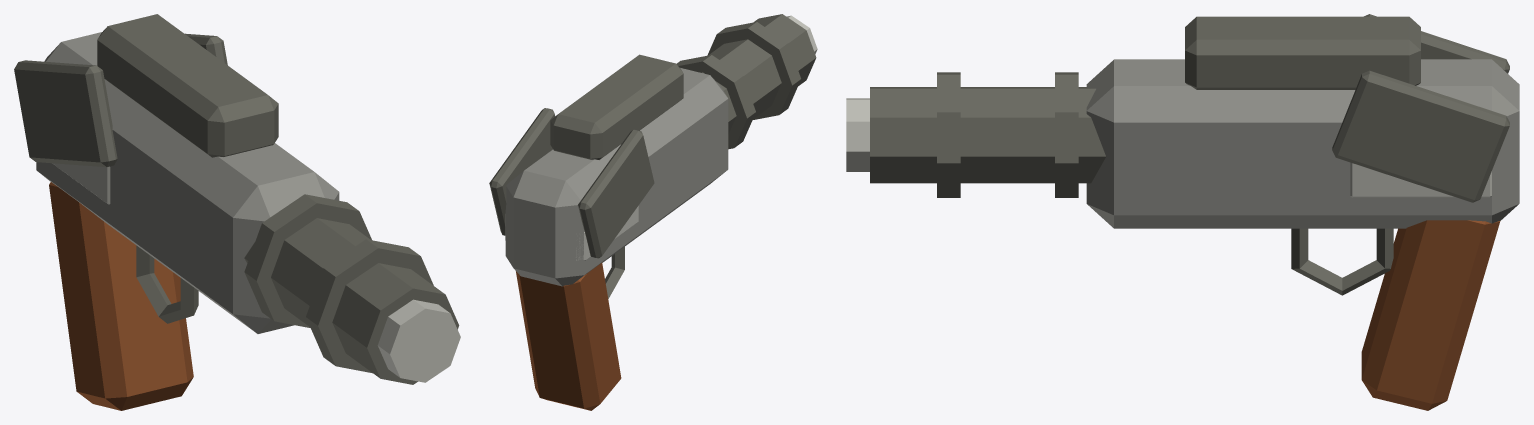
File: StoneLaserBlaster.fbx
3 views of the same model, side by side, from view 1: azimuth 30°, elevation 25°; view 2: azimuth 150°, elevation 25°; view 3: azimuth 270°, elevation 25° (orthographic). The views are drawn at different scales.
Visible parts, largest first — view 1: StoneLaserBlaster; view 2: StoneLaserBlaster; view 3: StoneLaserBlaster.
Boxes of the visible parts, bbox=[...] form: StoneLaserBlaster: bbox=[14, 14, 460, 410]; StoneLaserBlaster: bbox=[489, 14, 817, 410]; StoneLaserBlaster: bbox=[846, 14, 1519, 410].
Size of the model in its own units: 0.78 by 2.07 by 3.42.
Materials: 1 (1 with a texture image).
